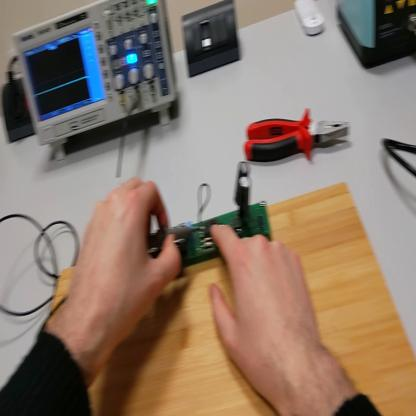hand: (207, 222, 327, 403), (66, 174, 181, 357)
high voltage board: (143, 162, 272, 266)
oscilloscope: (12, 3, 176, 171)
oscilloscope probe tip: (142, 225, 196, 251)
pliers: (244, 105, 352, 166)
socket: (2, 75, 38, 147)
welder station: (335, 1, 416, 74)
working area: (54, 187, 416, 415)
